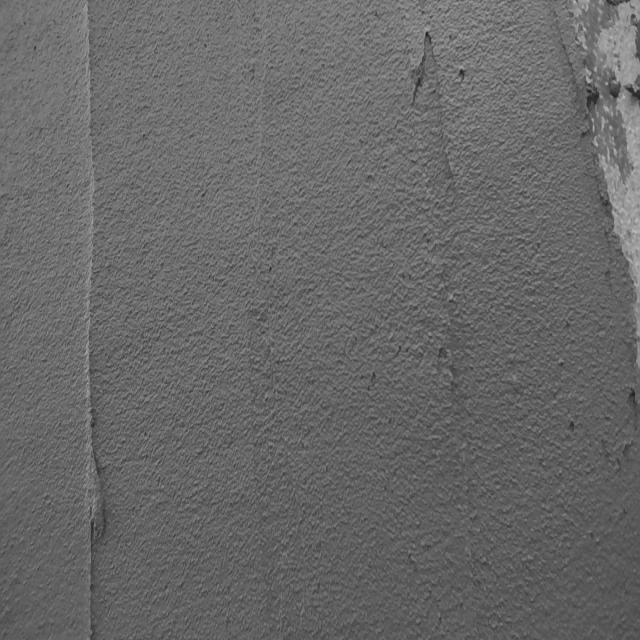trowels marks: (80, 17, 109, 640)
